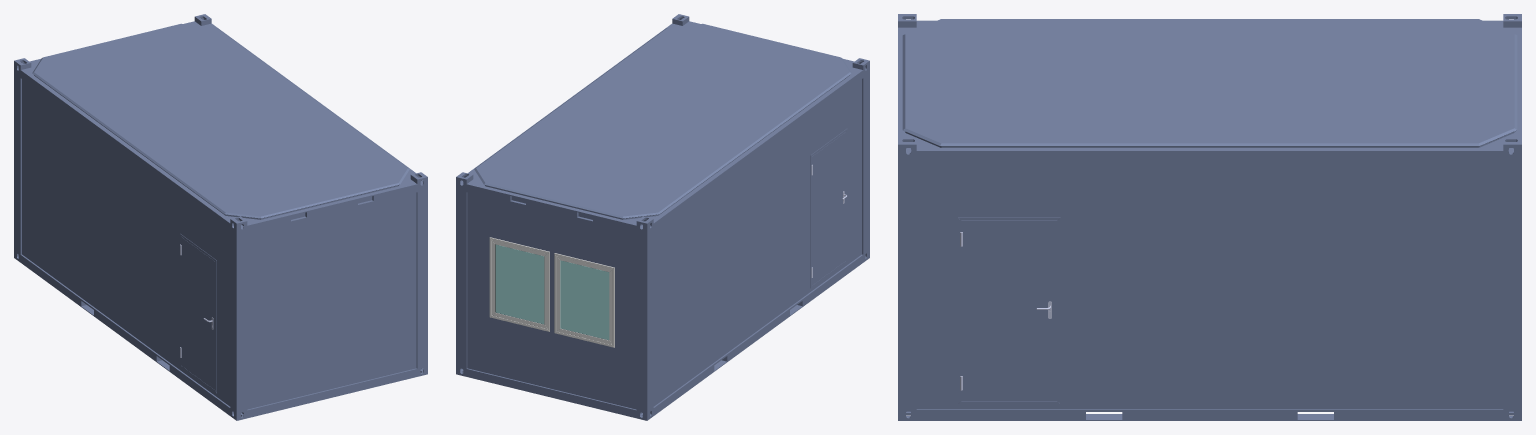
The model's file is Büro längsseitig HC 2960 BC 3000.obj.
3 views of the same model, side by side, from view 1: azimuth 30°, elevation 25°; view 2: azimuth 150°, elevation 25°; view 3: azimuth 270°, elevation 25° (orthographic). The views are drawn at different scales.
Visible parts, largest first — view 1: |Test_buerolängs~0|Root|Test-Büro2~0-1|color, |Test_buerolängs~0|Root|Cont-Tür~0-3|color-2; view 2: |Test_buerolängs~0|Root|Test-Büro2~0-1|color, |Test_buerolängs~0|Root|Cont-Tür~0-3|color-2, |Test_buerolängs~0|Root|Cont-Fenster~0-1|color-4, |Test_buerolängs~0|Root|Cont-Fenster~0-3|color-4, |Test_buerolängs~0|Root|Cont-Fenster~0-1|color-5, |Test_buerolängs~0|Root|Cont-Fenster~0-3|color-5; view 3: |Test_buerolängs~0|Root|Test-Büro2~0-1|color, |Test_buerolängs~0|Root|Cont-Tür~0-2|color-2.
Boxes of the visible parts, x1,y1,x2,y2 form: |Test_buerolängs~0|Root|Test-Büro2~0-1|color: (14,14,427,420); |Test_buerolängs~0|Root|Cont-Tür~0-3|color-2: (179,233,216,393); |Test_buerolängs~0|Root|Test-Büro2~0-1|color: (456,14,869,420); |Test_buerolängs~0|Root|Cont-Tür~0-3|color-2: (810,129,847,288); |Test_buerolängs~0|Root|Cont-Fenster~0-1|color-4: (495,244,544,324); |Test_buerolängs~0|Root|Cont-Fenster~0-3|color-4: (560,260,609,339); |Test_buerolängs~0|Root|Cont-Fenster~0-1|color-5: (489,237,549,331); |Test_buerolängs~0|Root|Cont-Fenster~0-3|color-5: (554,253,614,347); |Test_buerolängs~0|Root|Test-Büro2~0-1|color: (898,14,1521,420); |Test_buerolängs~0|Root|Cont-Tür~0-2|color-2: (958,217,1060,404).
Bounding box in the file's own units: 3.11 × 2.96 × 6.05.
